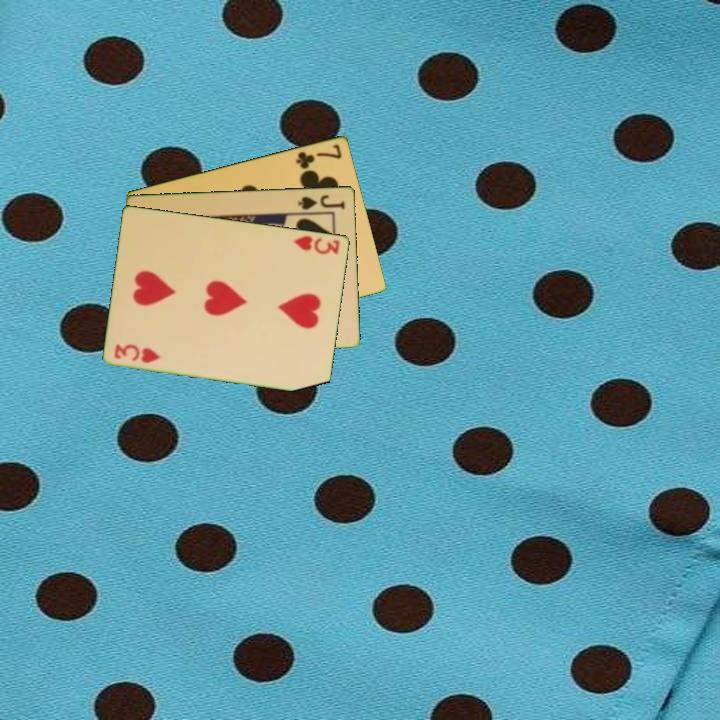3h: (111, 340, 163, 366), (289, 232, 343, 257)
7c: (292, 140, 345, 172)
Js: (295, 191, 348, 212)
